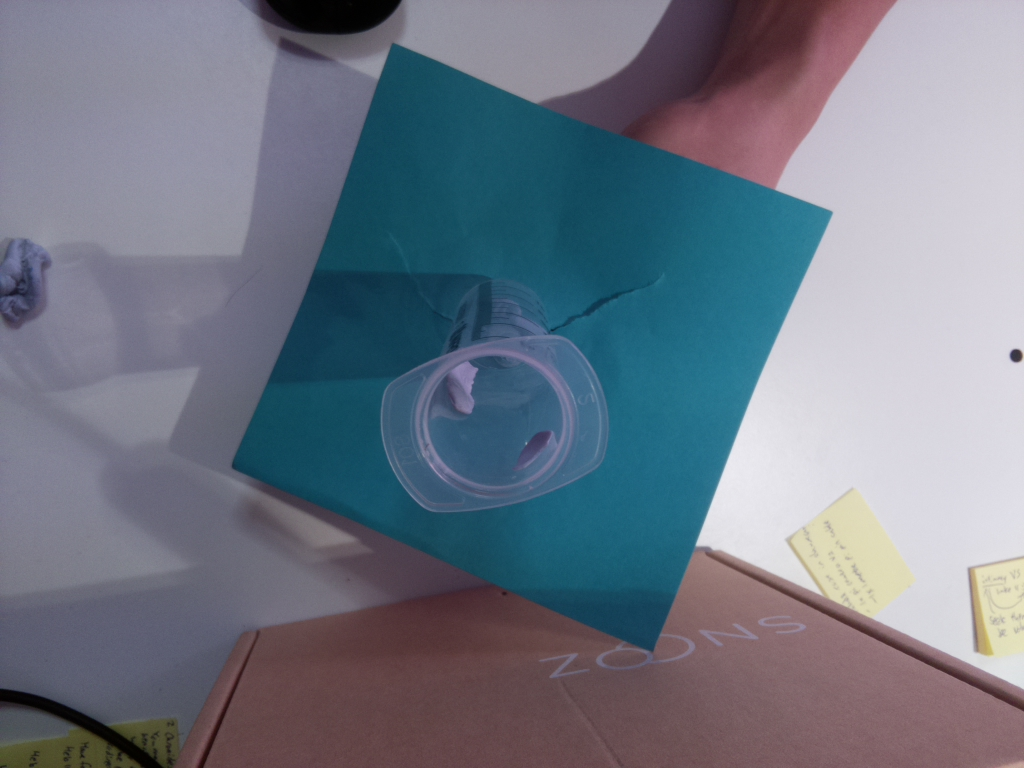dirty: (379, 334, 608, 514)
